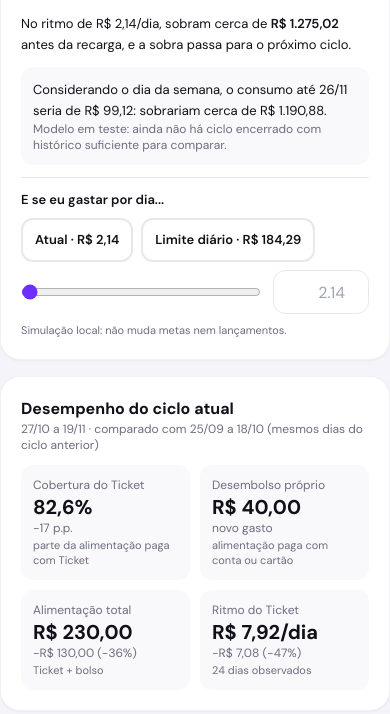
Test: Ticket em três abas › simulador atualiza o texto e volta à previsão
(page scrolled)
Step 1. Type "100" into the number field named "Gasto diário simulado em reais" → {"x": 321, "y": 292}, box [273,270,369,314]
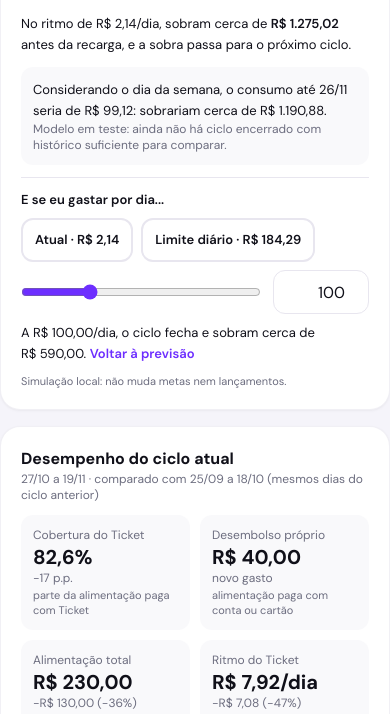
Expected: the element with test id "ticket-sim-result" shows "100,00/dia", [21,324,315,365]
Step 2. Click the button "Voltar à previsão" → {"x": 142, "y": 354}, box [90,343,194,364]
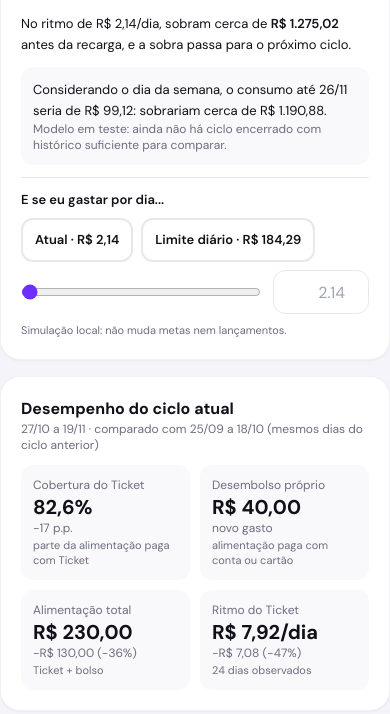
Expected: the element with test id "ticket-sim-result" is gone
